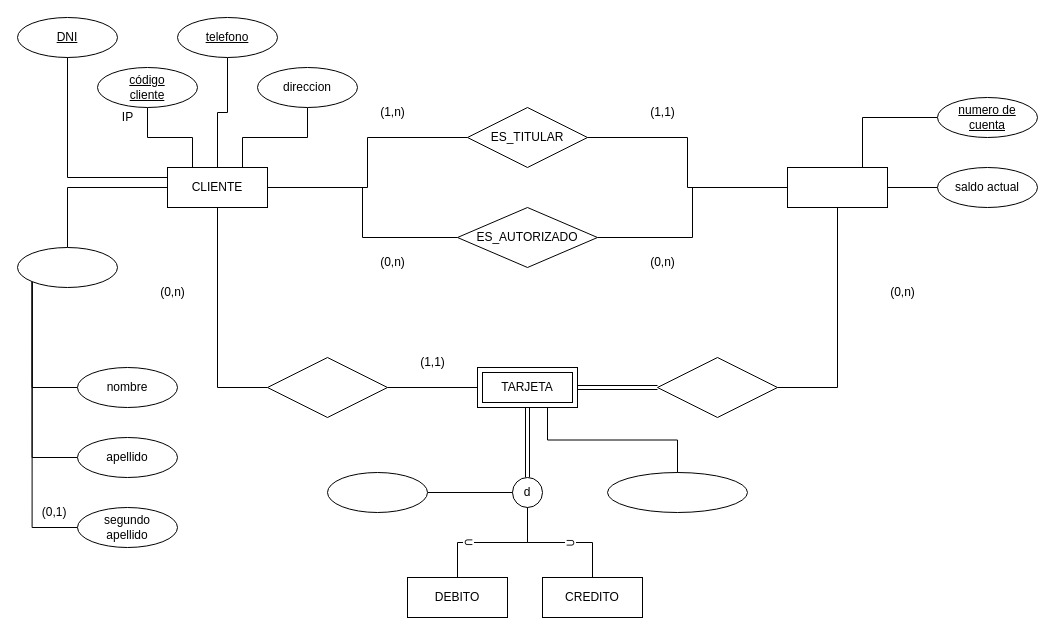
Image size: 1055x635. Some labels were removed from this diagram. The shapes that lost their labels are listed below. From the top down, each one's centre as x and y in pixels, then its label:
the point at 837,187: CUENTA
the point at 67,267: nombre completo
the point at 327,387: TENER
the point at 717,387: EMITE
the point at 377,492: tipo
the point at 677,492: numero_secuencial
